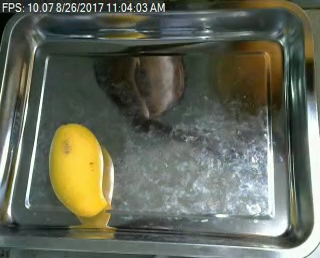Mango: (44, 116, 113, 222)
